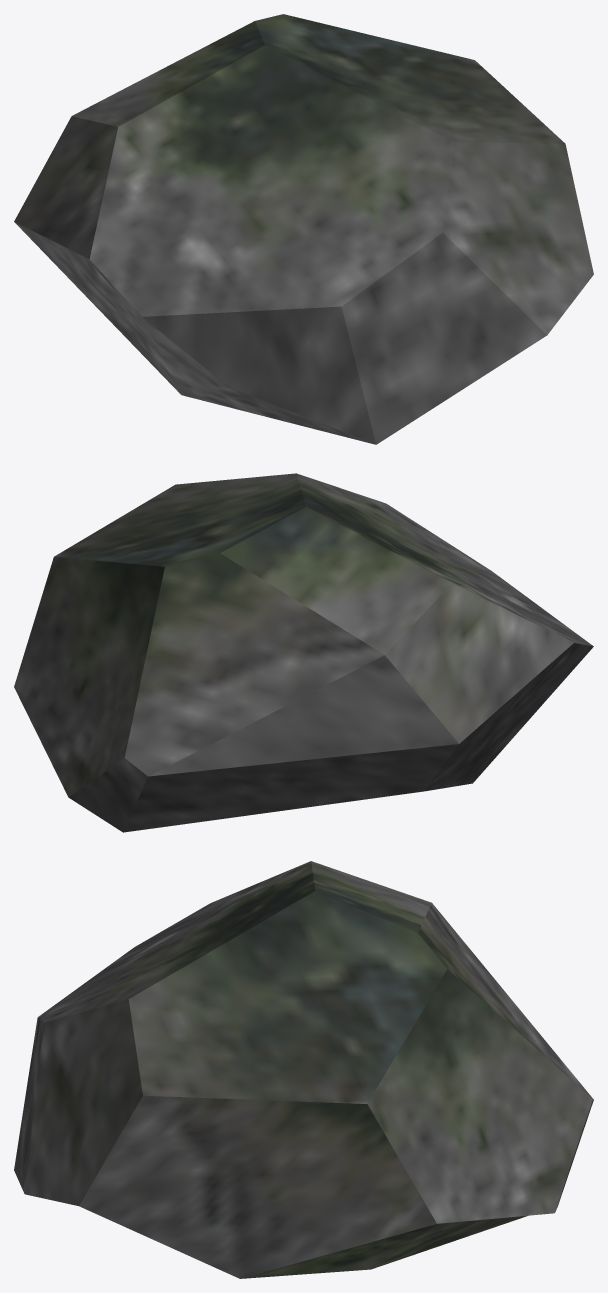
File: mediun_rock.glb
3 renders of one model, top to bottom at view 1: azimuth 30°, elevation 25°; view 2: azimuth 150°, elevation 25°; view 3: azimuth 270°, elevation 25°, orthographic. The views are drawn at different scales.
Parts seen in each view (by area): view 1: mediun rock_stone1_0; view 2: mediun rock_stone1_0; view 3: mediun rock_stone1_0.
Boxes of the visible parts, bbox=[...] form: mediun rock_stone1_0: bbox=[14, 14, 593, 444]; mediun rock_stone1_0: bbox=[14, 473, 593, 832]; mediun rock_stone1_0: bbox=[14, 861, 593, 1278].
Size of the model in its own units: 1.48 by 0.8642 by 1.51.
1 material, 1 textured.
